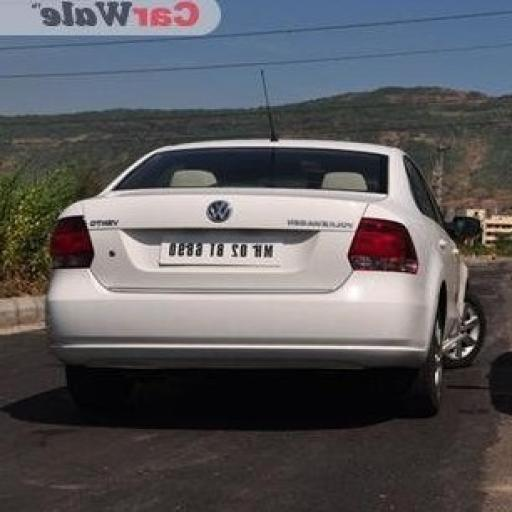License: (154, 231, 291, 268)
